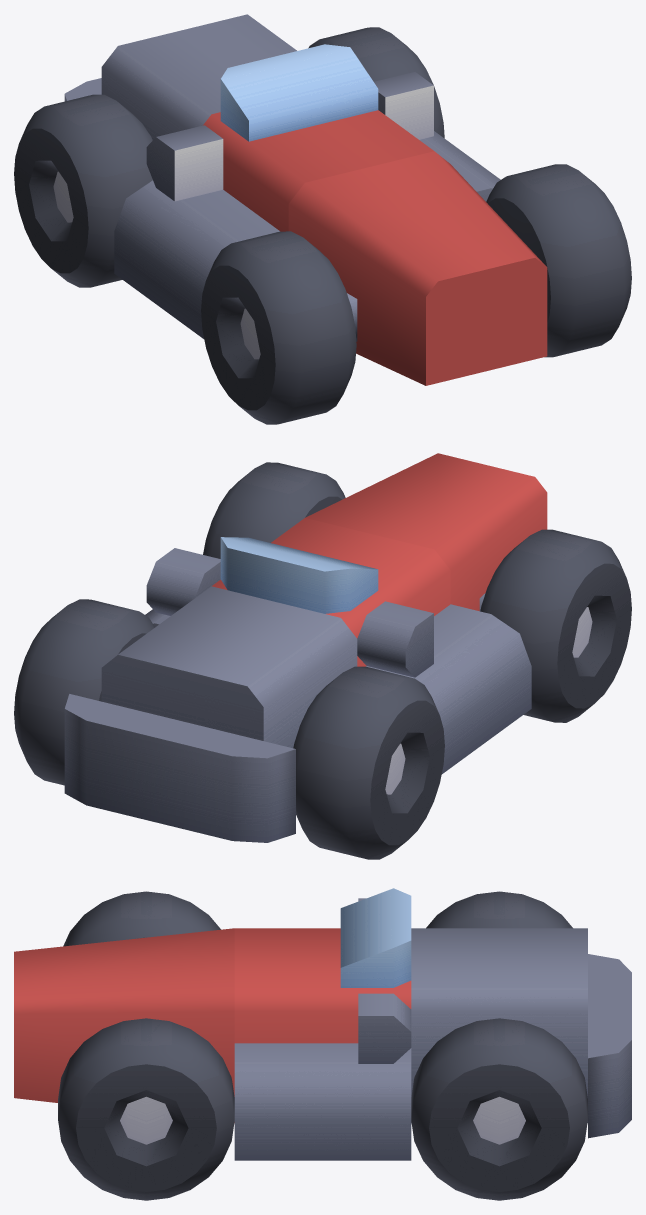
File: car_red.glb
The picture shows the model from 3 angles, top to bottom: view 1: azimuth 30°, elevation 25°; view 2: azimuth 150°, elevation 25°; view 3: azimuth 270°, elevation 25°; orthographic projection. The views are drawn at different scales.
Parts seen in each view (by area): view 1: vehicle-vintage-racer, wheel-bl, wheel-fl, wheel-br, wheel-fr; view 2: vehicle-vintage-racer, wheel-fl, wheel-bl, wheel-fr, wheel-br; view 3: vehicle-vintage-racer, wheel-br, wheel-fr, wheel-bl, wheel-fl.
Boxes of the visible parts, <box> form: vehicle-vintage-racer: <box>64,14,547,385</box>; wheel-bl: <box>201,231,356,424</box>; wheel-fl: <box>14,94,152,287</box>; wheel-br: <box>486,164,631,357</box>; wheel-fr: <box>308,27,444,138</box>; vehicle-vintage-racer: <box>64,453,547,842</box>; wheel-fl: <box>293,666,444,859</box>; wheel-bl: <box>480,529,631,722</box>; wheel-fr: <box>14,599,154,785</box>; wheel-br: <box>203,462,345,558</box>; vehicle-vintage-racer: <box>14,888,631,1160</box>; wheel-br: <box>58,1018,234,1200</box>; wheel-fr: <box>411,1018,587,1200</box>; wheel-bl: <box>63,891,220,946</box>; wheel-fl: <box>426,891,572,928</box>.
Size of the model in its own units: 0.55 by 0.325 by 0.875.
1 material, 1 textured.
